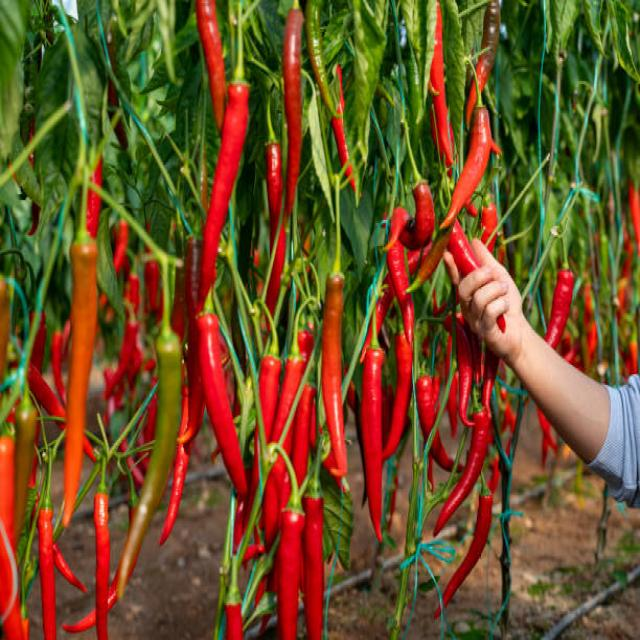Half-Ripe: (110, 335, 182, 608), (476, 0, 499, 92)
Ripe: (201, 82, 250, 302), (62, 240, 96, 525), (200, 316, 248, 501), (439, 495, 496, 613), (434, 409, 488, 533), (443, 110, 496, 228), (322, 272, 346, 478), (383, 319, 413, 463), (282, 9, 302, 220), (196, 0, 225, 133), (274, 513, 304, 640), (363, 351, 382, 541), (301, 496, 325, 640), (160, 443, 188, 544), (544, 269, 578, 351), (272, 356, 305, 440), (94, 492, 111, 640), (292, 388, 314, 486), (39, 509, 55, 638), (456, 324, 475, 428), (259, 354, 280, 441), (53, 542, 86, 591), (267, 142, 281, 249), (417, 376, 437, 440), (428, 429, 453, 470)
